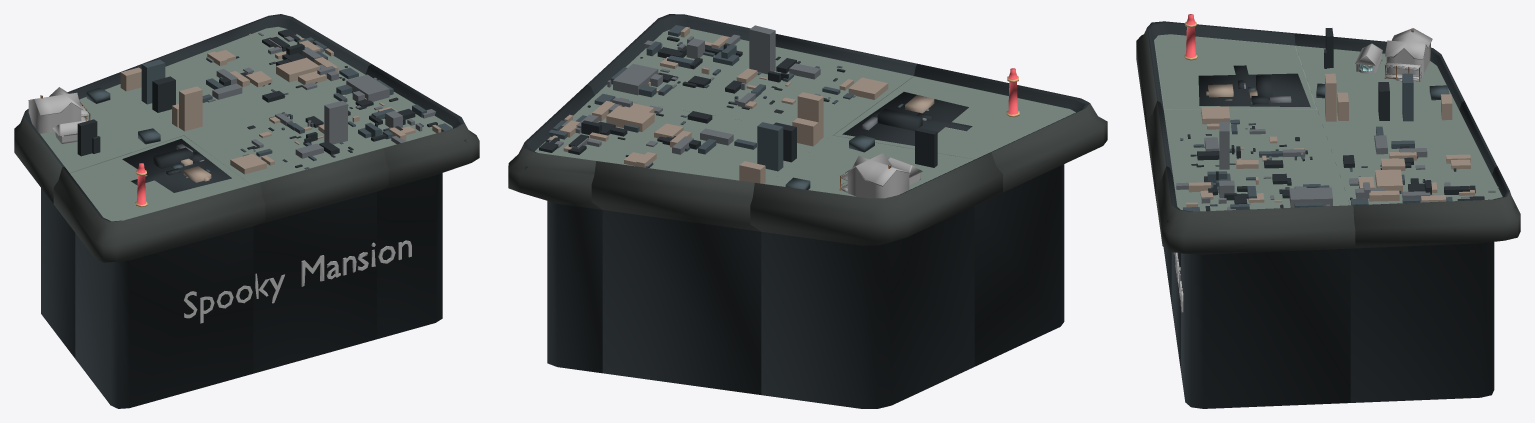
The model's file is Houses.fbx.
3 renders of one model, left to right at view 1: azimuth 30°, elevation 25°; view 2: azimuth 150°, elevation 25°; view 3: azimuth 270°, elevation 25°, orthographic. The views are drawn at different scales.
Parts seen in each view (by area): view 1: House_1.005, House_1.000, House_1.001, House_1.002, House_1.003, House_1.004; view 2: House_1.002, House_1.003, House_1.005, House_1.004, House_1.000, House_1.001; view 3: House_1.001, House_1.004, House_1.005, House_1.000, House_1.003, House_1.002.
Boxes of the visible parts, x1,y1,x2,y2 form: House_1.005: (53,135,265,408); House_1.000: (184,96,388,373); House_1.001: (301,64,479,338); House_1.002: (14,75,183,358); House_1.003: (113,32,300,134); House_1.004: (225,14,370,95); House_1.002: (750,127,1002,408); House_1.003: (591,92,831,394); House_1.005: (833,63,1107,366); House_1.004: (508,84,678,373); House_1.000: (680,25,916,135); House_1.001: (587,14,750,109); House_1.001: (1156,166,1355,408); House_1.004: (1340,166,1520,402); House_1.005: (1136,14,1317,303); House_1.000: (1147,101,1339,370); House_1.003: (1317,73,1496,175); House_1.002: (1294,28,1464,109).
Bounding box in the file's own units: 9.28 × 5.12 × 7.48.
1 material, 1 textured.
